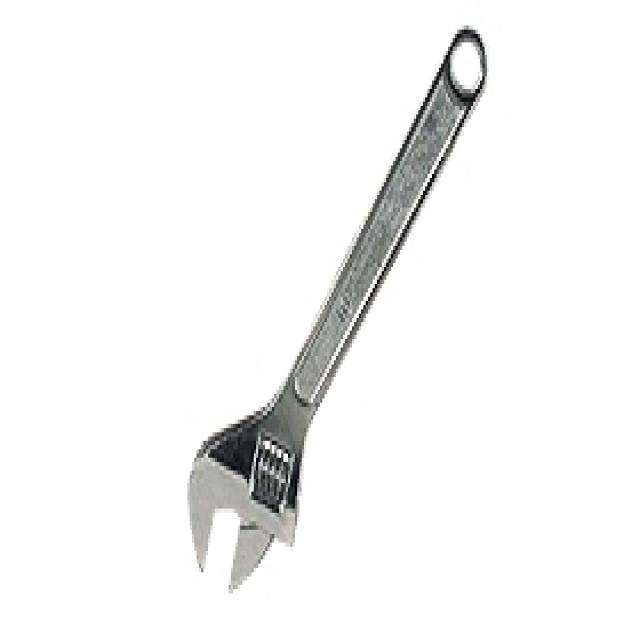wrench: (50, 4, 615, 624)
